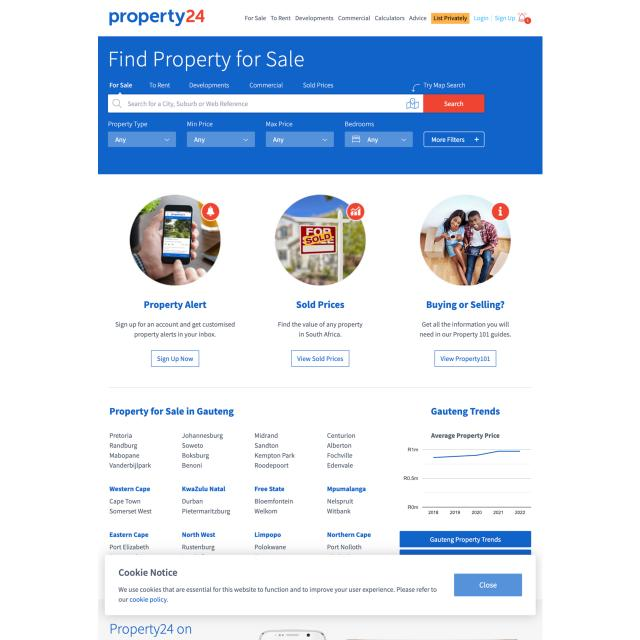input: (108, 92, 486, 115)
logo: (102, 5, 207, 30)
navigation: (241, 11, 516, 23), (107, 81, 336, 90)
